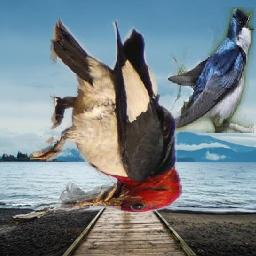Swallow: (168, 7, 254, 133)
Woodpecker: (30, 19, 182, 214)
